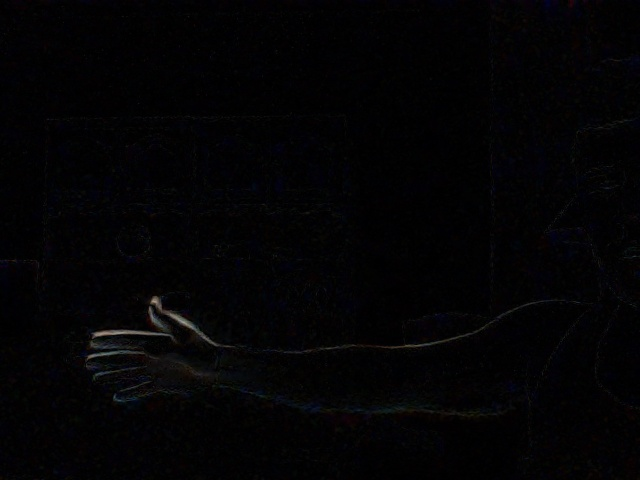hand_pa: (86, 296, 224, 411)
